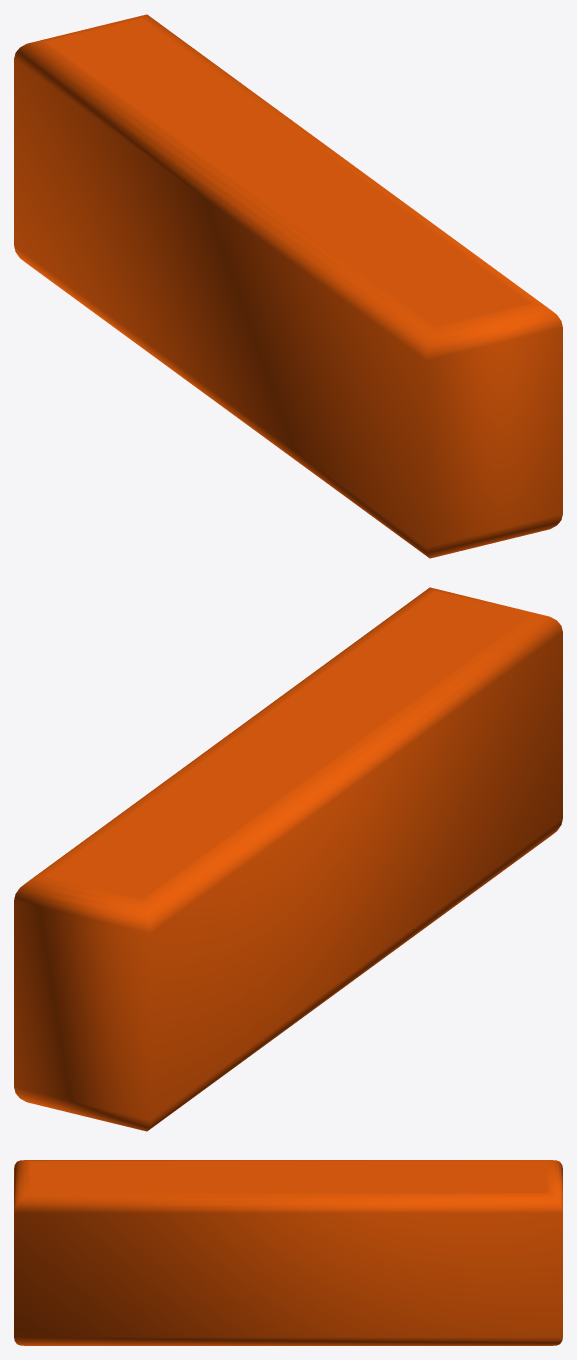
3 views of the same model, one above another, from view 1: azimuth 30°, elevation 25°; view 2: azimuth 150°, elevation 25°; view 3: azimuth 270°, elevation 25° (orthographic). The views are drawn at different scales.
Visible parts, largest first — view 1: Text; view 2: Text; view 3: Text.
Part boxes in pixels (x1=…): Text: x1=14, y1=14, x2=562, y2=558; Text: x1=14, y1=587, x2=562, y2=1131; Text: x1=14, y1=1160, x2=562, y2=1345.
Size of the model in its own units: 13.8 by 22 by 72.2.
